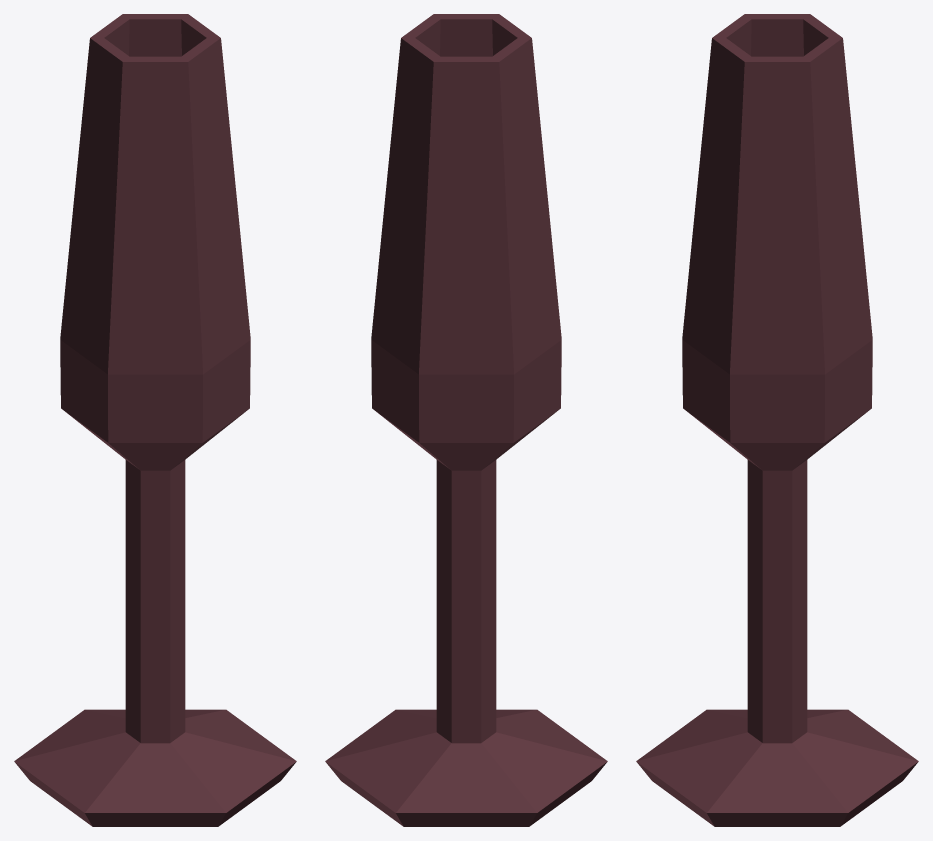
The model's file is drink-champagne.fbx.
The picture shows the model from 3 angles, left to right: view 1: azimuth 30°, elevation 25°; view 2: azimuth 150°, elevation 25°; view 3: azimuth 270°, elevation 25°; orthographic projection.
Visible parts, largest first — view 1: drink-champagne; view 2: drink-champagne; view 3: drink-champagne.
Part boxes in pixels (bbox=[...]): drink-champagne: bbox=[14, 14, 296, 826]; drink-champagne: bbox=[325, 14, 607, 826]; drink-champagne: bbox=[636, 14, 918, 826].
Bounding box in the file's own units: 0.0683 × 0.2286 × 0.0789.
